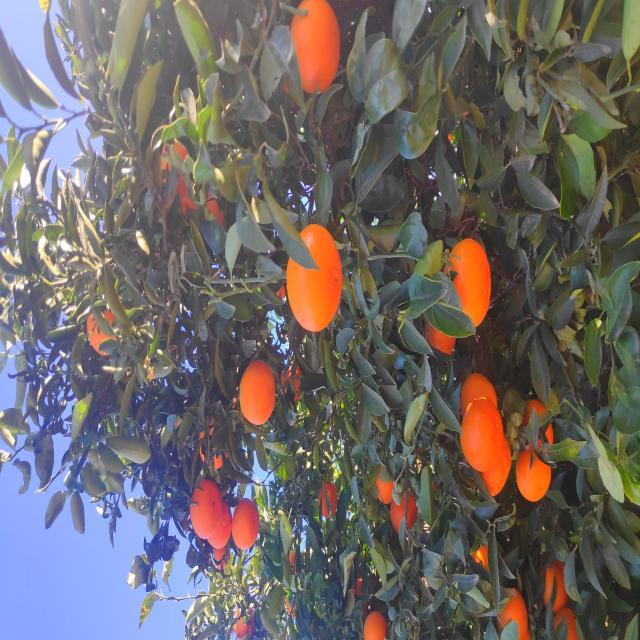Jeruk Sudah Matang: (308, 286, 416, 342), (547, 290, 640, 340), (312, 446, 403, 490), (167, 461, 243, 504), (217, 240, 280, 276), (140, 515, 200, 551), (144, 479, 206, 511), (216, 461, 268, 498), (102, 190, 156, 222), (0, 496, 52, 528), (29, 539, 82, 568), (195, 522, 242, 554), (90, 232, 142, 260), (90, 208, 143, 232), (286, 88, 331, 116), (105, 389, 150, 416), (458, 160, 500, 187), (286, 424, 320, 456), (120, 318, 160, 340), (1, 550, 32, 578), (0, 364, 30, 388), (1, 234, 34, 254), (138, 376, 170, 394), (70, 471, 96, 492), (70, 214, 92, 230)
